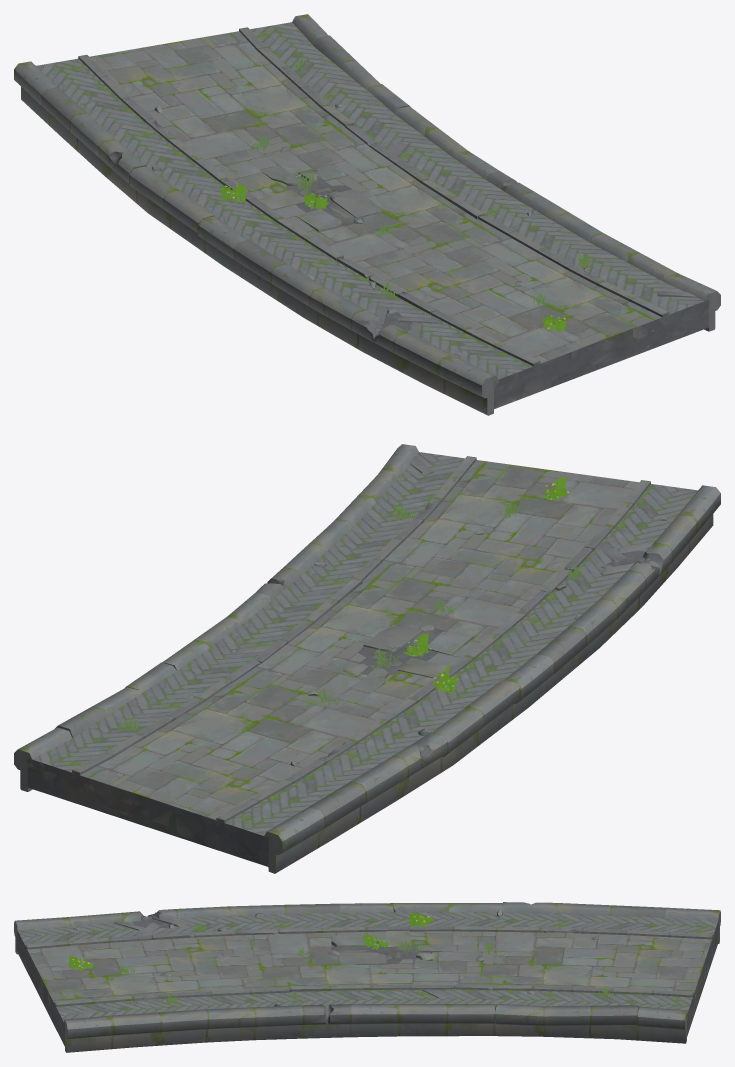
The model's file is Area_MdBuild_SdBridge20_01_Group.fbx.
The picture shows the model from 3 angles, top to bottom: view 1: azimuth 30°, elevation 25°; view 2: azimuth 150°, elevation 25°; view 3: azimuth 270°, elevation 25°; orthographic projection. The views are drawn at different scales.
Visible parts, largest first — view 1: Area_MdBuild_SdBridge20_01_Lod0; view 2: Area_MdBuild_SdBridge20_01_Lod0; view 3: Area_MdBuild_SdBridge20_01_Lod0.
Boxes of the visible parts, x1,y1,x2,y2 form: Area_MdBuild_SdBridge20_01_Lod0: [14, 14, 720, 415]; Area_MdBuild_SdBridge20_01_Lod0: [14, 444, 720, 873]; Area_MdBuild_SdBridge20_01_Lod0: [14, 902, 720, 1052].
Size of the model in its own units: 11.99 by 1.85 by 28.65.
Materials: 7 (7 with a texture image).
